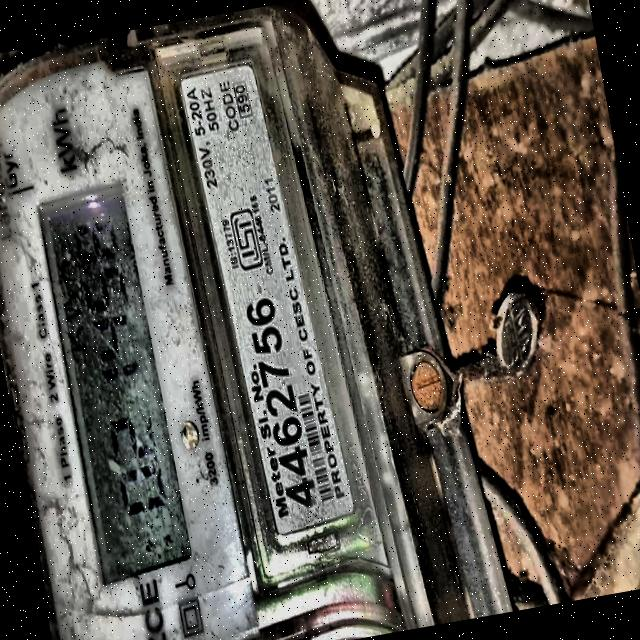Digital: (0, 2, 487, 640)
Reading: (66, 199, 174, 531)
Serial No.: (241, 290, 320, 518)
